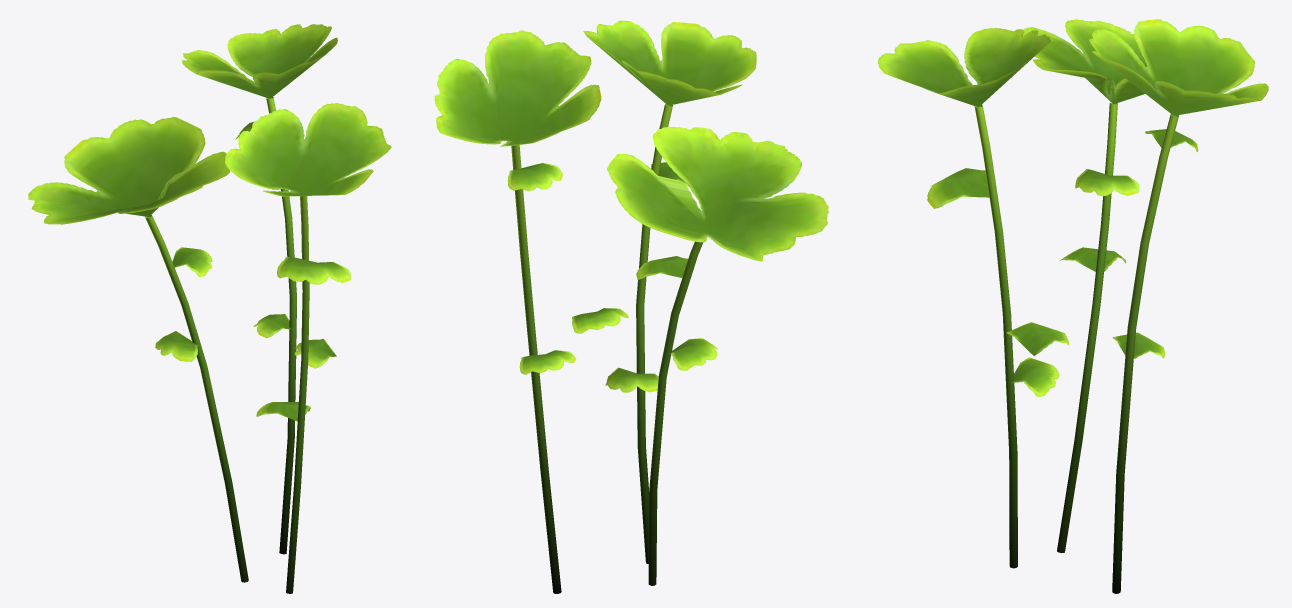
The model's file is trefle-1.glb.
The picture shows the model from 3 angles, left to right: view 1: azimuth 30°, elevation 25°; view 2: azimuth 150°, elevation 25°; view 3: azimuth 270°, elevation 25°; orthographic projection. The views are drawn at different scales.
Visible parts, largest first — view 1: Clover_1; view 2: Clover_1; view 3: Clover_1.
Part boxes in pixels (x1,y1,x2,y2): Clover_1: (28,24,391,593); Clover_1: (434,20,828,593); Clover_1: (878,19,1268,593).
Size of the model in its own units: 0.7963 by 1.14 by 0.7639.
Materials: 1 (1 with a texture image).
